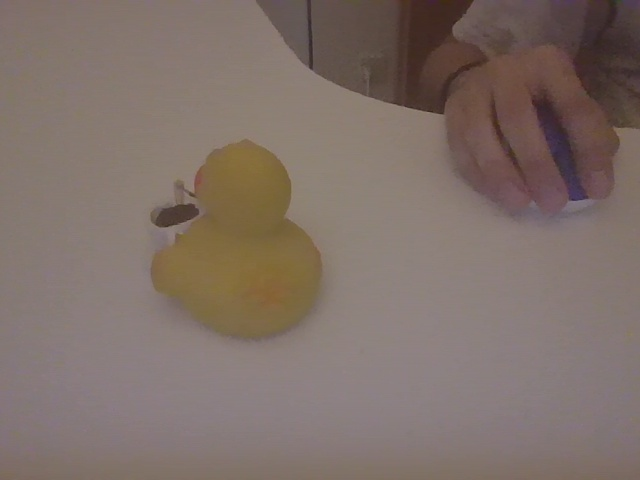duck: (142, 112, 329, 341)
